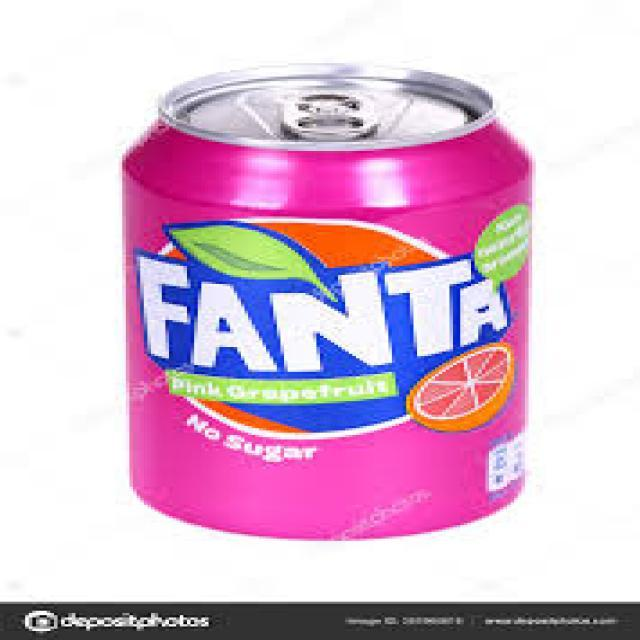can: (116, 62, 542, 549)
